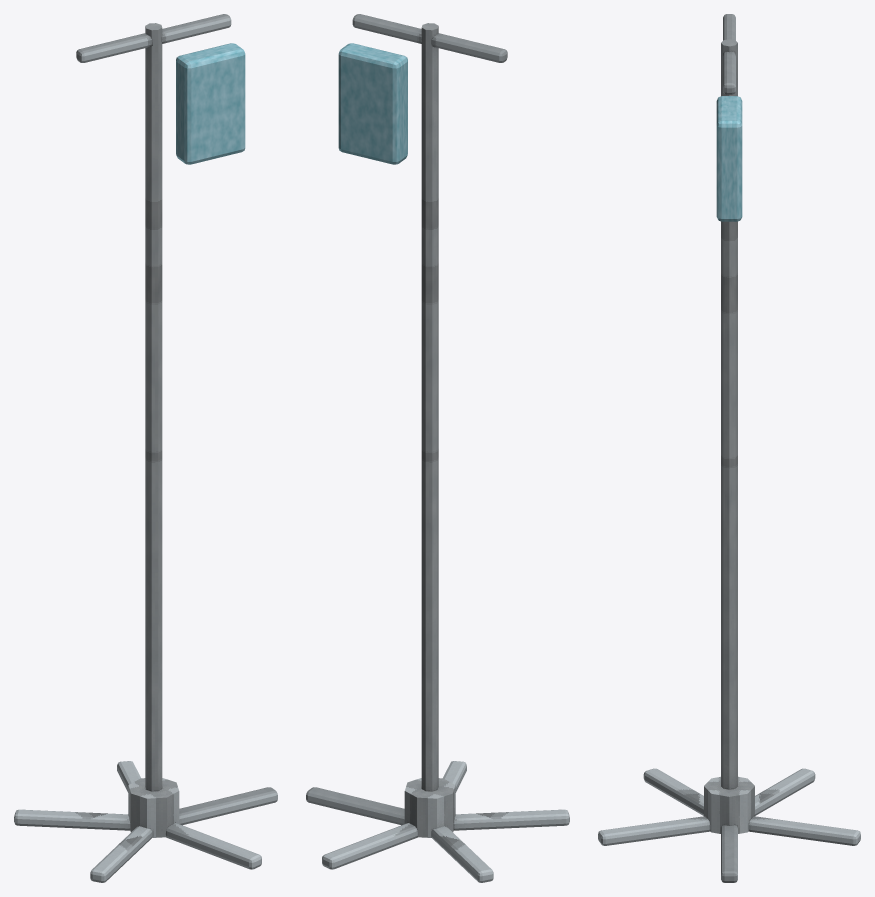
Rendered from base_iv_stand.glb.
3 views of the same model, side by side, from view 1: azimuth 30°, elevation 25°; view 2: azimuth 150°, elevation 25°; view 3: azimuth 270°, elevation 25° (orthographic). The views are drawn at different scales.
Parts seen in each view (by area): view 1: base_iv_stand.001; view 2: base_iv_stand.001; view 3: base_iv_stand.001.
Boxes of the visible parts, x1,y1,x2,y2 form: base_iv_stand.001: (14, 14, 277, 882); base_iv_stand.001: (306, 14, 569, 882); base_iv_stand.001: (598, 14, 860, 882).
Bounding box in the file's own units: 0.587 × 2.02 × 0.6155.
Materials: 2 (2 with a texture image).
